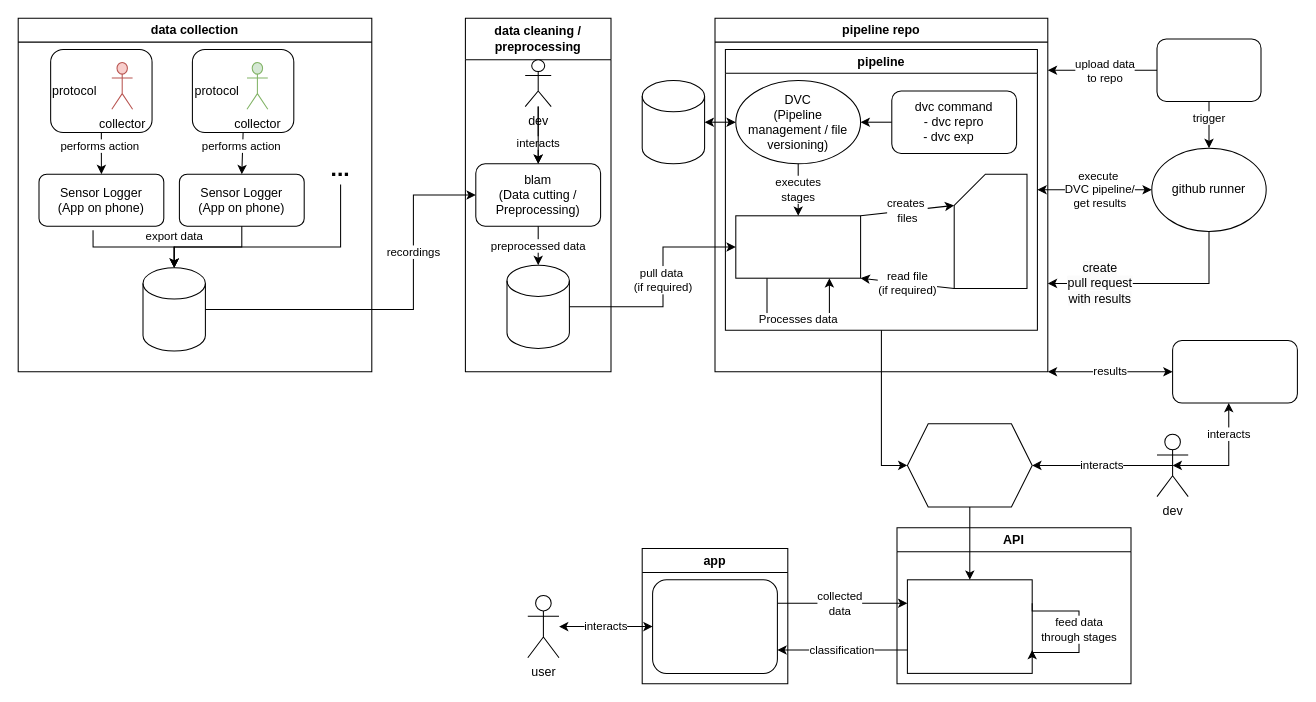
This 1316x702 diagram has some shape labels left out. The shapes that lost their labels are listed below. From the top down, each one's centre as x and y in pixels, then its label:
point 1208,69: @ git push
point 673,122: s3 storage
point 798,246: stages (different .py scripts)
point 990,231: generated files from stages
point 173,309: Onedrive
point 537,306: questdb
point 1234,371: iterative studio
point 969,465: transfer of best performing pipeline
point 714,626: mobile application
point 969,626: requires stages
